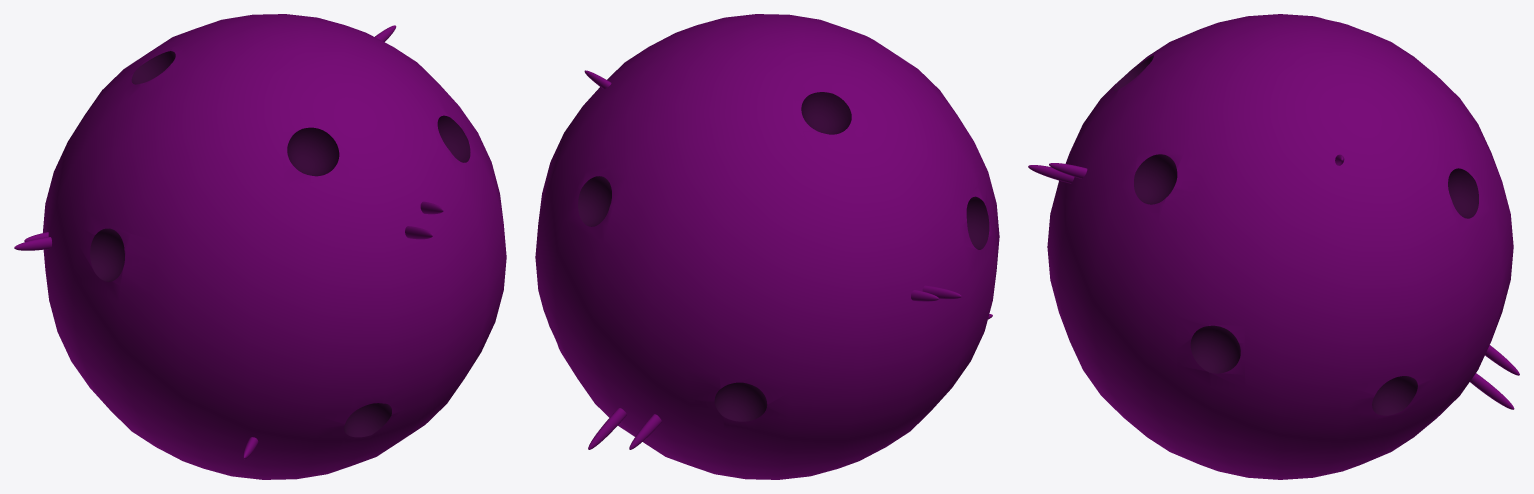
Rendered from Nucleus.fbx.
The picture shows the model from 3 angles, left to right: view 1: azimuth 30°, elevation 25°; view 2: azimuth 150°, elevation 25°; view 3: azimuth 270°, elevation 25°; orthographic projection.
Visible parts, largest first — view 1: pSphere23; view 2: pSphere23, pSphere30; view 3: pSphere23, pSphere30.
Part boxes in pixels (x1,y1,x2,y2): pSphere23: (43,14,506,479); pSphere23: (535,14,999,479); pSphere30: (588,408,626,449); pSphere23: (1047,14,1513,479); pSphere30: (1470,373,1514,409).
Size of the model in its own units: 7.37 by 6.94 by 7.32.
